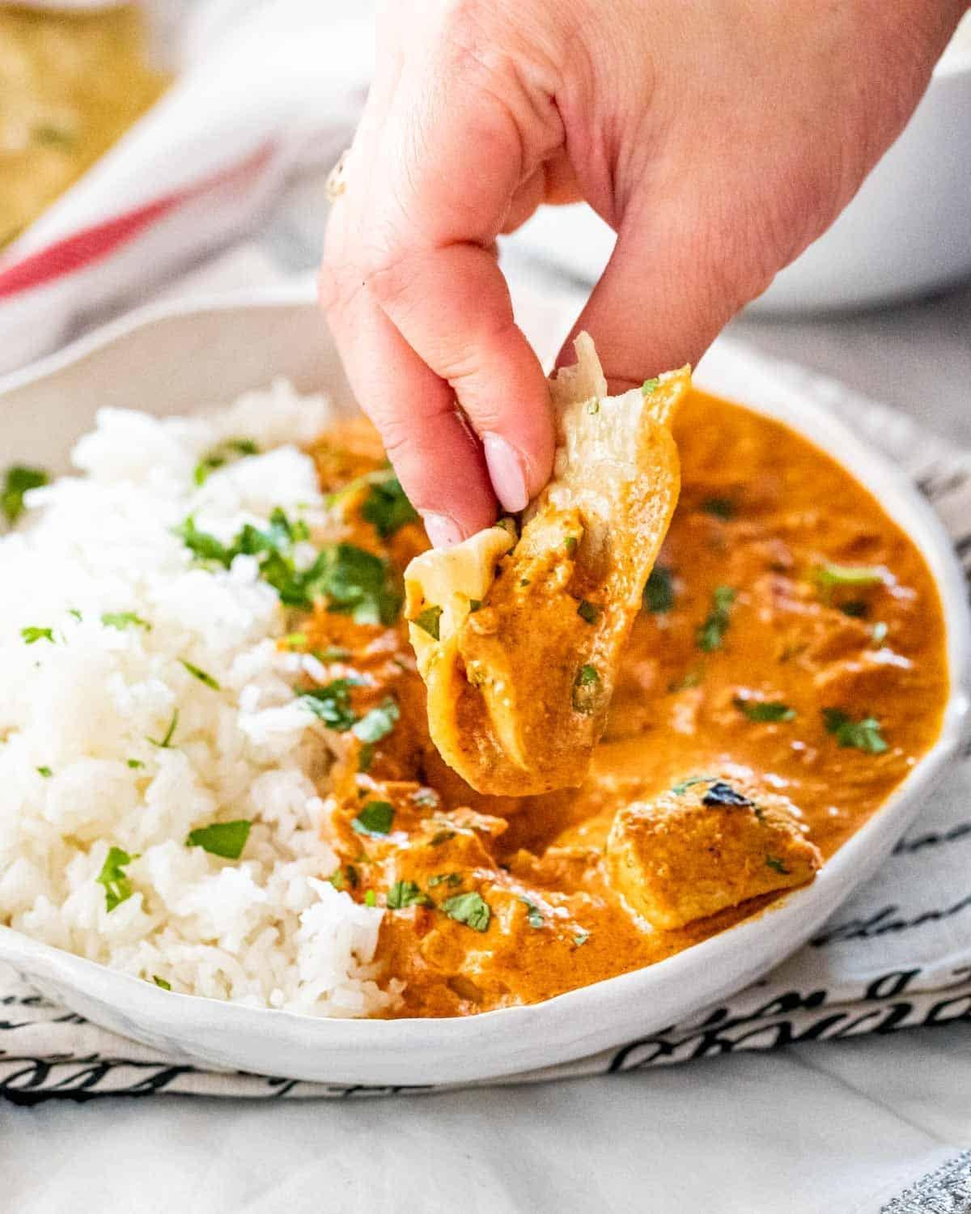chicken: (360, 399, 935, 987)
rice: (0, 374, 344, 1023)
